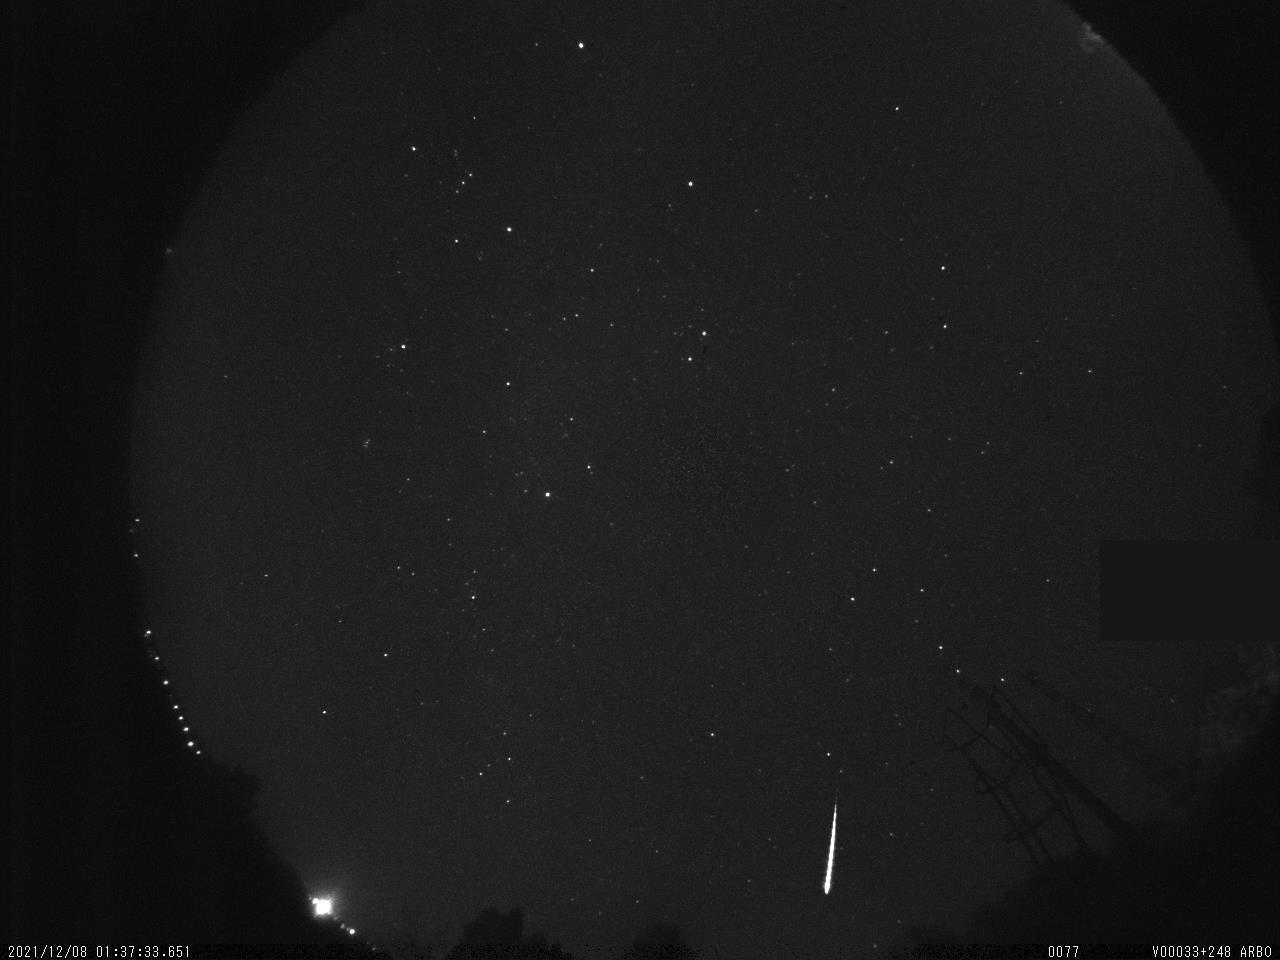Meteor: (821, 799, 839, 895)
